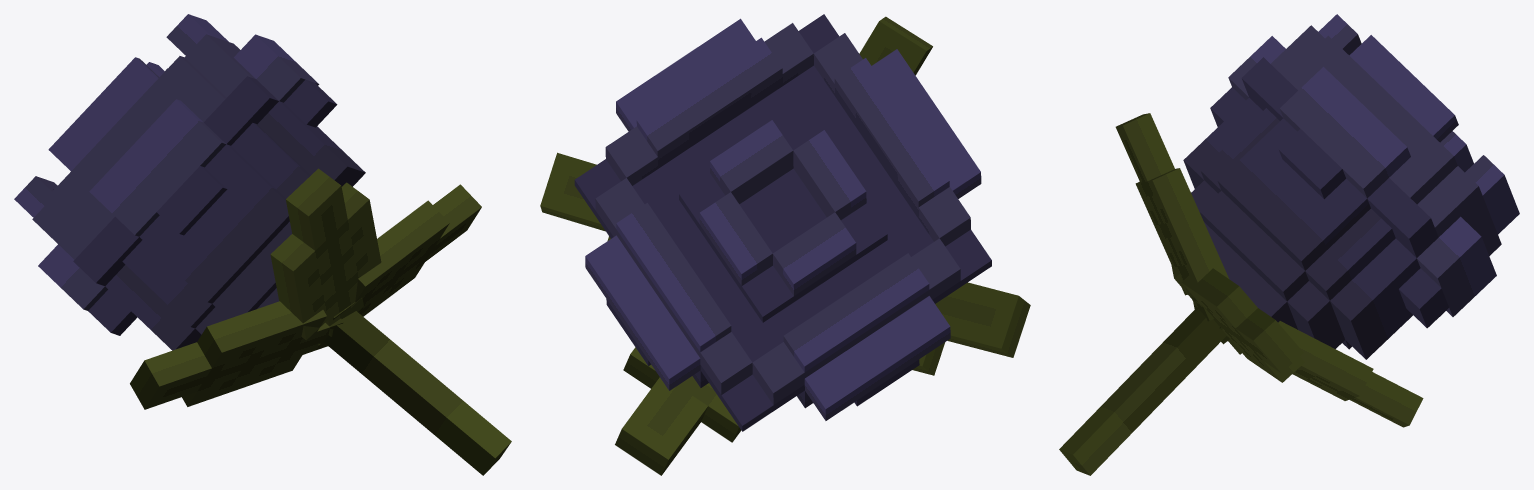
3 views of the same model, side by side, from view 1: azimuth 30°, elevation 25°; view 2: azimuth 150°, elevation 25°; view 3: azimuth 270°, elevation 25° (orthographic). The views are drawn at different scales.
Parts seen in each view (by area): view 1: black_heart-Local, leaf03-Local, leaf04-Local, stem-Local, leaf02-Local; view 2: black_heart-Local, leaf-Local, leaf04-Local, leaf02-Local, leaf03-Local; view 3: black_heart-Local, stem-Local, leaf03-Local, leaf02-Local, leaf-Local.
Part boxes in pixels (x1,y1,x2,y2): black_heart-Local: (14, 14, 365, 350); leaf03-Local: (270, 168, 381, 340); leaf04-Local: (130, 301, 343, 409); stem-Local: (323, 311, 511, 475); leaf02-Local: (333, 184, 481, 319); black_heart-Local: (574, 14, 991, 431); leaf-Local: (615, 347, 741, 475); leaf04-Local: (912, 282, 1030, 375); leaf02-Local: (540, 152, 610, 240); leaf03-Local: (859, 16, 932, 75); black_heart-Local: (1183, 14, 1519, 359); stem-Local: (1059, 310, 1226, 475); leaf03-Local: (1115, 113, 1228, 321); leaf02-Local: (1181, 268, 1304, 382); leaf-Local: (1219, 321, 1423, 427).
Size of the model in its own units: 28.65 by 26.65 by 30.14.
6 materials, 6 textured.
